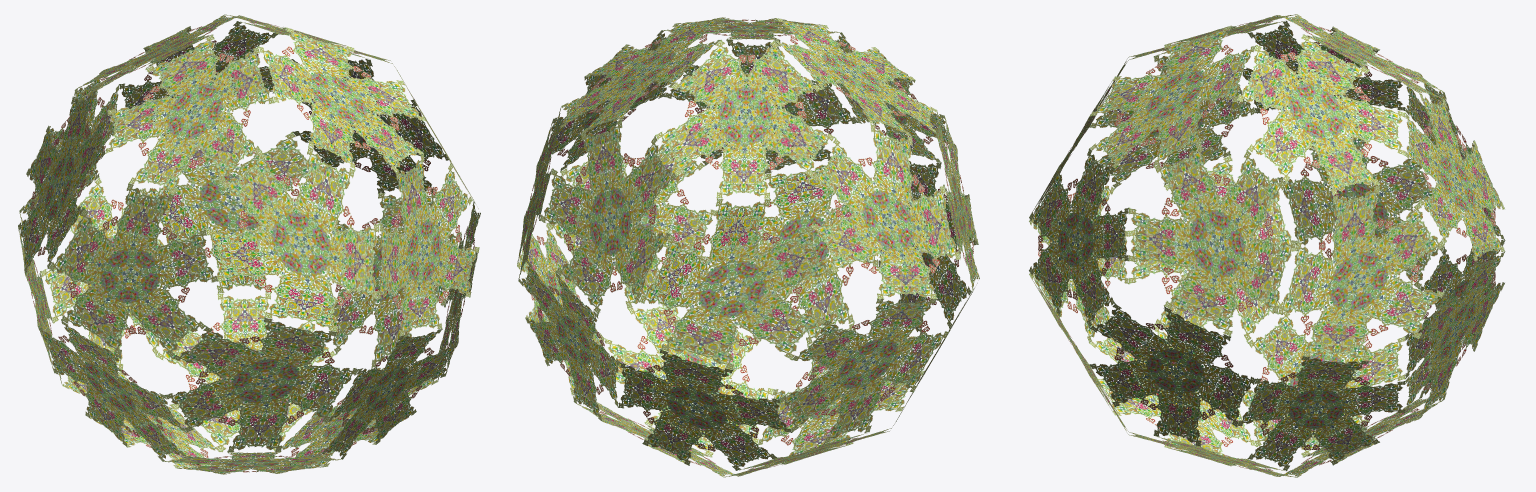
File: PentagonalIcositetrahedron9.obj
3 renders of one model, left to right at view 1: azimuth 30°, elevation 25°; view 2: azimuth 150°, elevation 25°; view 3: azimuth 270°, elevation 25°, orthographic.
Size of the model in its own units: 2.72 by 2.72 by 2.72.
1 material, 1 textured.
